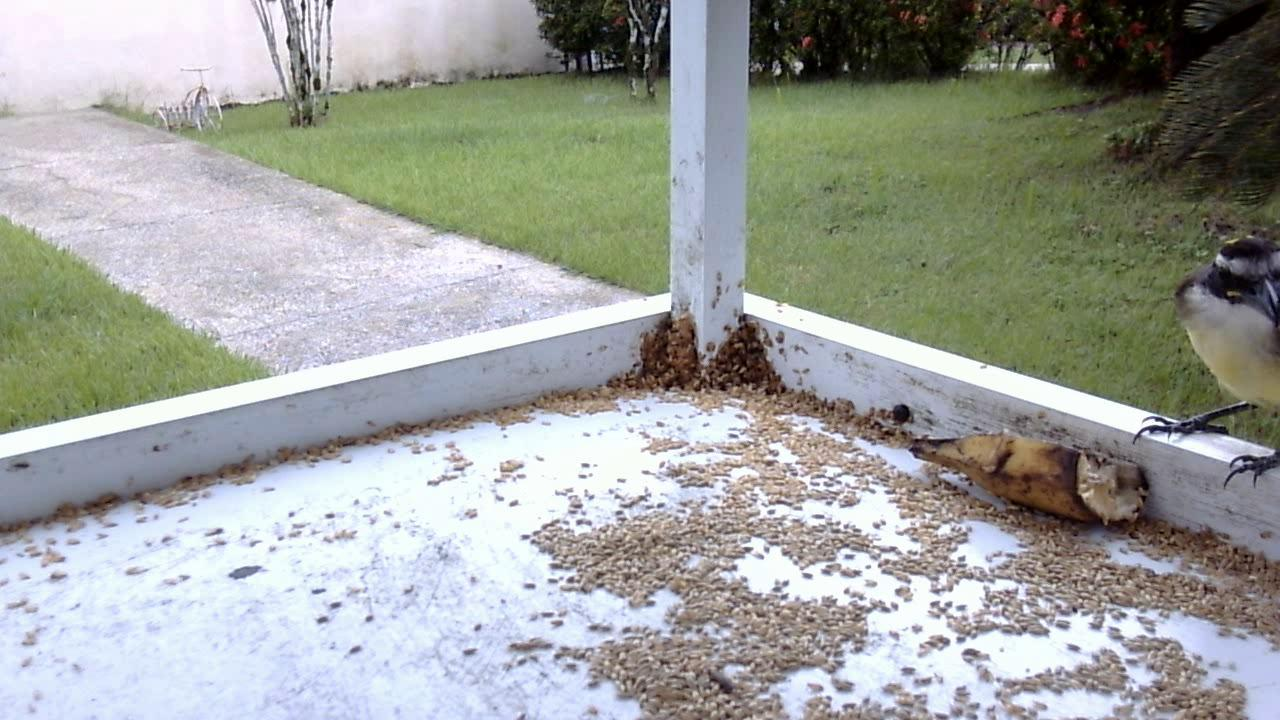bem_te_vi: (1125, 217, 1280, 497)
